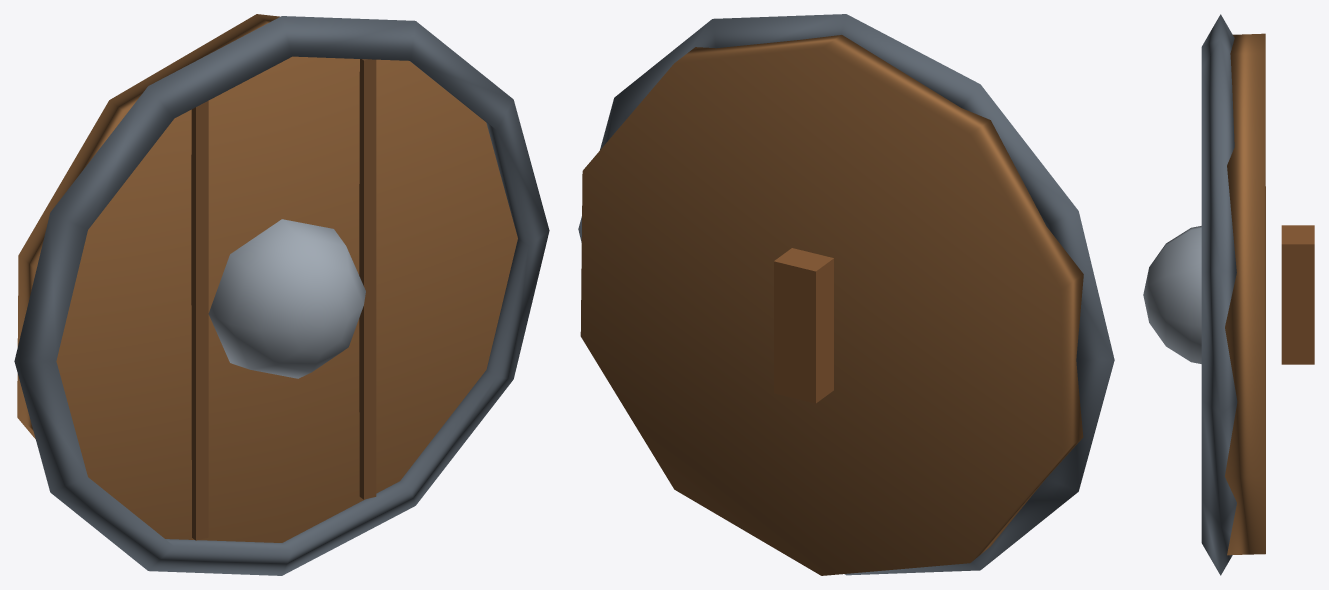
Rendered from shield_t1.glb.
3 views of the same model, side by side, from view 1: azimuth 30°, elevation 25°; view 2: azimuth 150°, elevation 25°; view 3: azimuth 270°, elevation 25° (orthographic). The views are drawn at different scales.
Visible parts, largest first — view 1: item_wood1, item_darkMetal1, item_metal1, item_plank; view 2: item_wood1, item_darkMetal1, item_leather1; view 3: item_wood1, item_darkMetal1, item_metal1, item_leather1.
Boxes of the visible parts, x1,y1,x2,y2 form: item_wood1: [17, 14, 517, 542]; item_darkMetal1: [14, 16, 549, 575]; item_metal1: [208, 219, 365, 378]; item_plank: [191, 59, 376, 540]; item_wood1: [580, 35, 1083, 575]; item_darkMetal1: [578, 14, 1114, 575]; item_leather1: [774, 248, 833, 403]; item_wood1: [1225, 33, 1265, 555]; item_darkMetal1: [1201, 14, 1237, 575]; item_metal1: [1143, 226, 1201, 363]; item_leather1: [1281, 225, 1314, 364].
Bounding box in the file's own units: 0.51 × 0.51 × 0.155.
